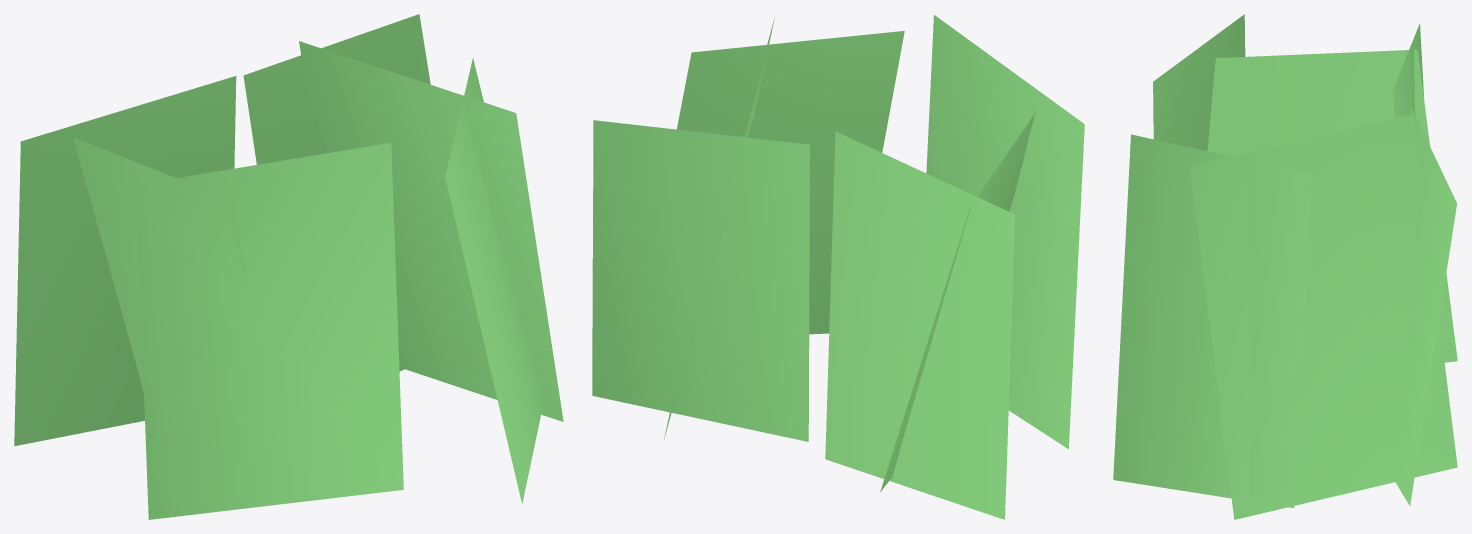
Rendered from SM_Dandilion.glb.
3 views of the same model, side by side, from view 1: azimuth 30°, elevation 25°; view 2: azimuth 150°, elevation 25°; view 3: azimuth 270°, elevation 25° (orthographic). The views are drawn at different scales.
Parts seen in each view (by area): view 1: IL3DN_Plant_Grass_02_LOD0.001; view 2: IL3DN_Plant_Grass_02_LOD0.001; view 3: IL3DN_Plant_Grass_02_LOD0.001.
Boxes of the visible parts, x1=… form: IL3DN_Plant_Grass_02_LOD0.001: x1=14, y1=14, x2=563, y2=519; IL3DN_Plant_Grass_02_LOD0.001: x1=592, y1=15, x2=1084, y2=519; IL3DN_Plant_Grass_02_LOD0.001: x1=1113, y1=14, x2=1457, y2=519.
Bounding box in the file's own units: 0.8782 × 0.6778 × 0.6078.
